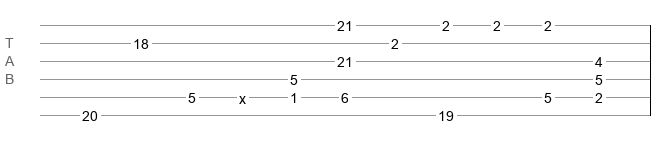1: (290, 90, 298, 100)
18: (133, 36, 149, 46)
19: (438, 108, 454, 118)
2: (391, 36, 399, 46), (442, 18, 450, 28), (493, 18, 501, 28), (544, 18, 552, 28), (595, 90, 603, 100)
20: (82, 108, 98, 118)
21: (337, 18, 353, 28), (337, 54, 353, 64)
4: (595, 54, 603, 64)
5: (188, 90, 196, 100), (290, 72, 298, 82), (544, 90, 552, 100), (595, 72, 603, 82)
6: (341, 90, 349, 100)
x: (239, 91, 246, 99)
